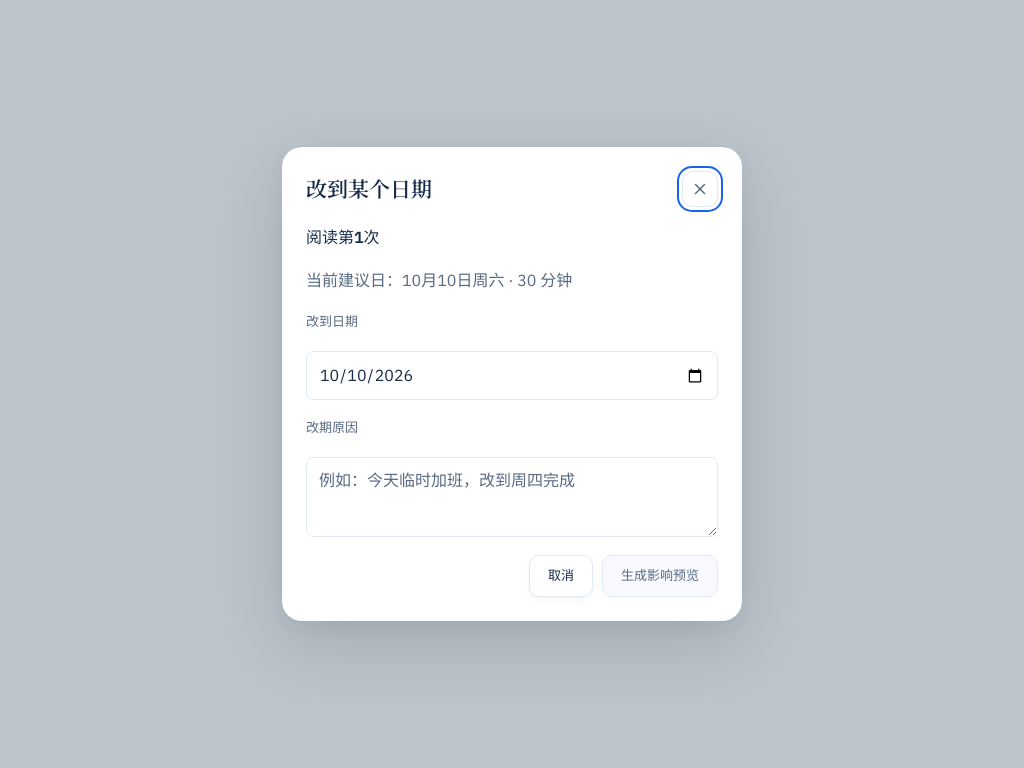
it: invalidates reschedule preview when inputs change and disables a blocked confirmation
Expected: the button "生成影响预览" is disabled, [602,555,718,597]
Type "临时会议" into the text box labelled "改期原因".
click(512, 497); type("临时会议")  # box [306,457,718,537]
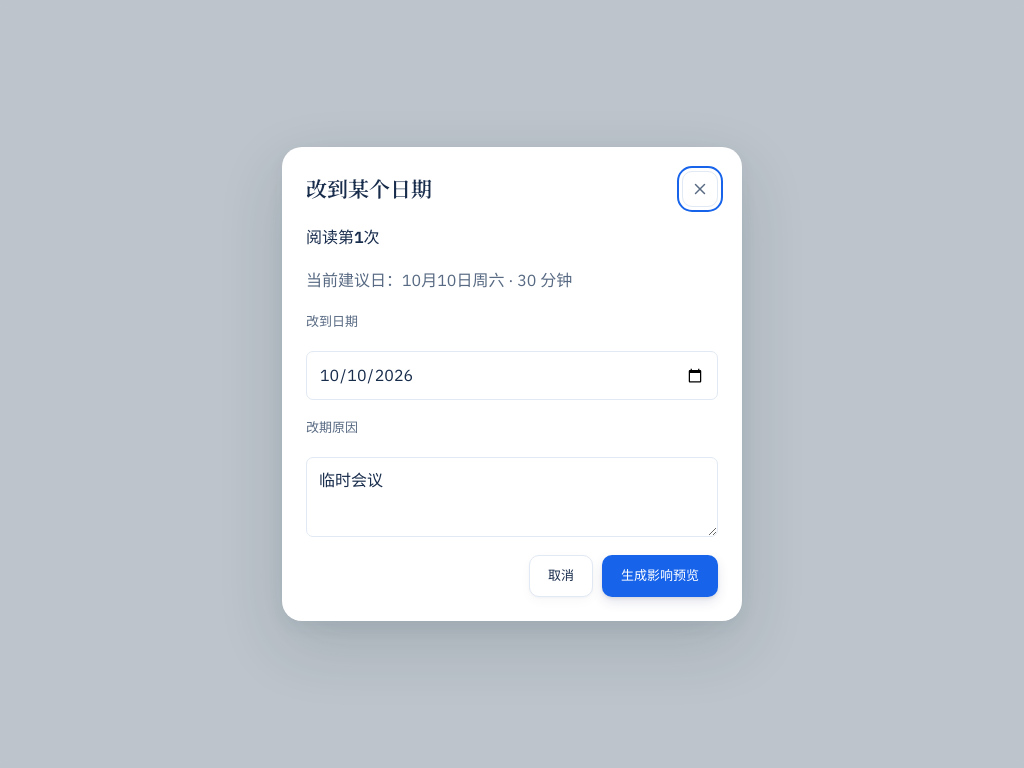
Click the button "生成影响预览".
click(660, 576)  # box [602,555,718,597]
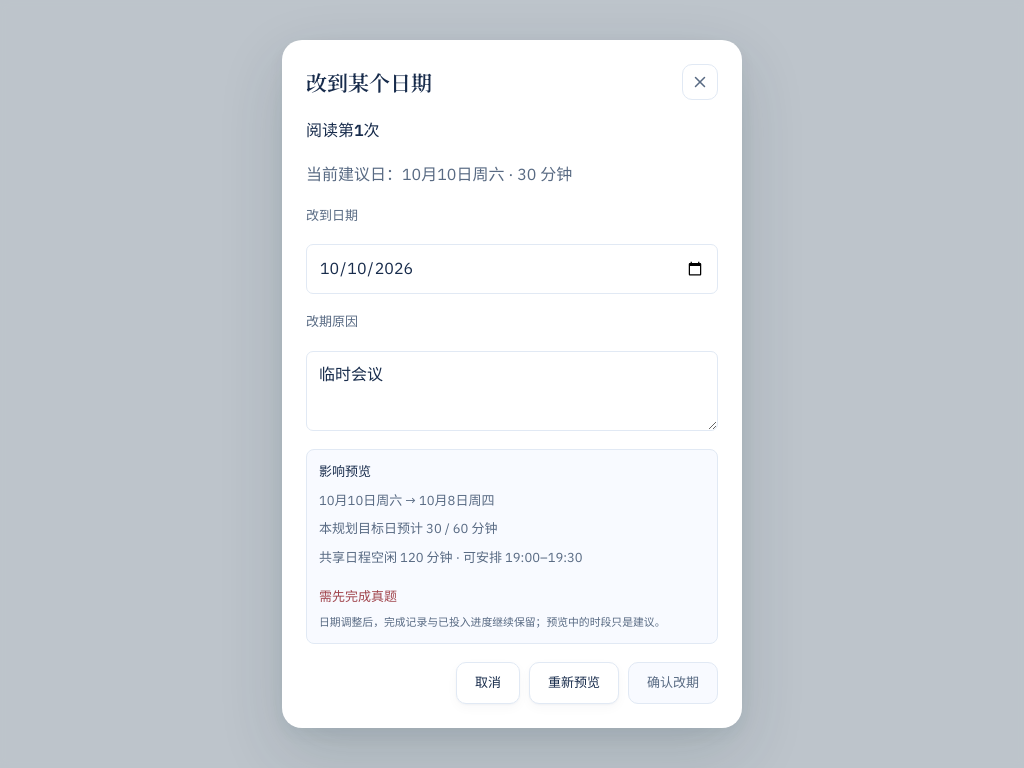
Now the text "需先完成真题" is shown, box [319,588,397,605]
Now the button "确认改期" is disabled, box [628,662,718,704]
Type "2026-10-12" into the date field labelled "改到日期".
click(512, 269); type("2026-10-12")  # box [306,244,718,294]
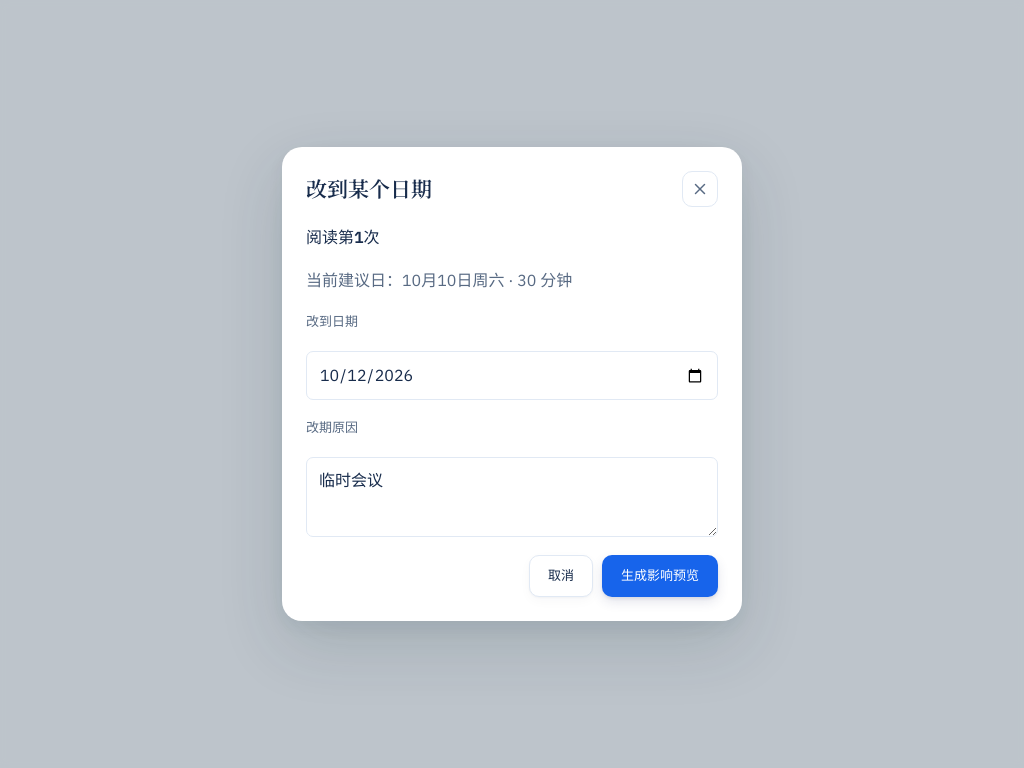
Now the field labelled "任务安排影响预览" is gone
Now the button "确认改期" is gone
